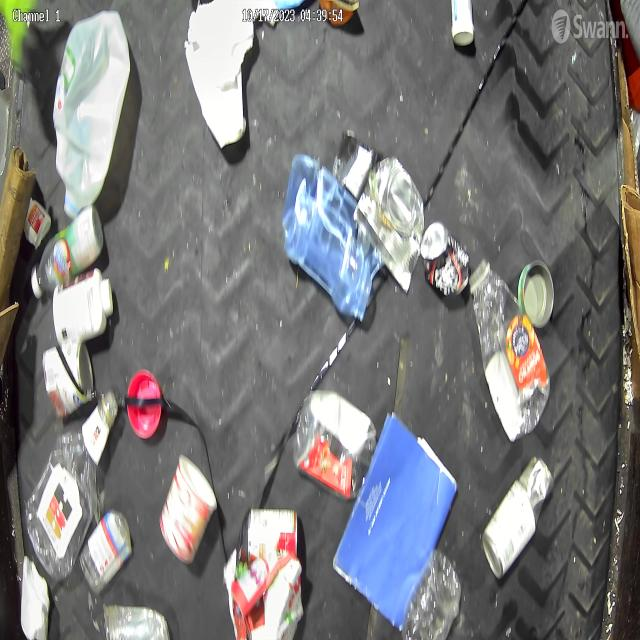can: (358, 160, 423, 291), (481, 483, 536, 582), (42, 342, 94, 421), (421, 219, 469, 297), (518, 260, 556, 330), (102, 604, 172, 640), (517, 453, 554, 512)
milk_jug: (54, 11, 132, 220)
plastic_bottle: (473, 260, 553, 441), (30, 205, 104, 297), (400, 549, 464, 640), (82, 509, 134, 591)
